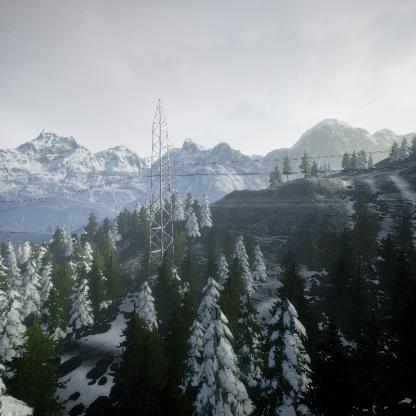tower: (135, 97, 183, 270)
